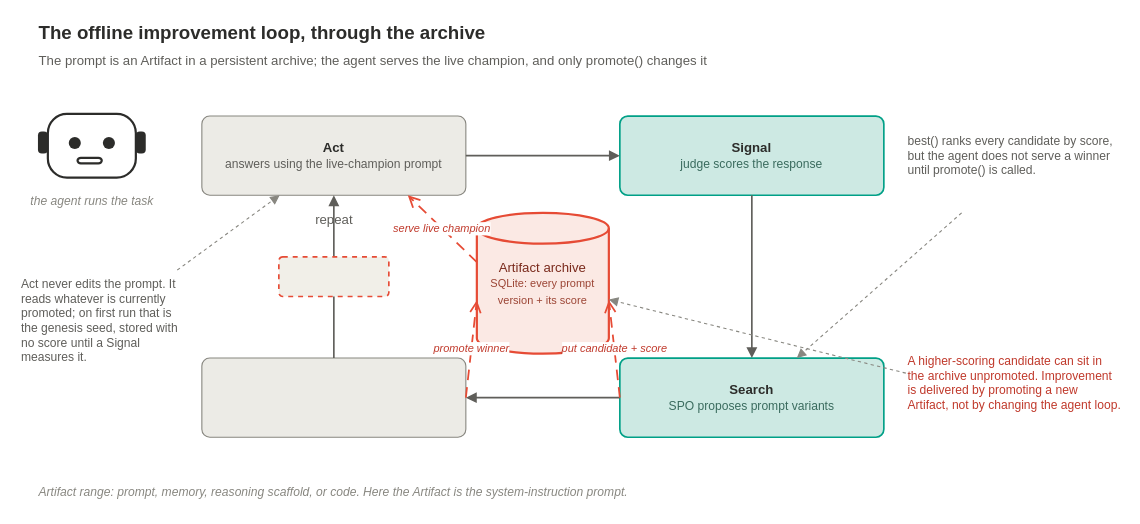
Some shapes in this 1140 by 524 pixel diagram are drawn without their labels. The centre of each missing label's shape, as x and y in pixels:
Apply promote() the winning variant: the point at 333,397
promote() deploy gate: the point at 333,276
